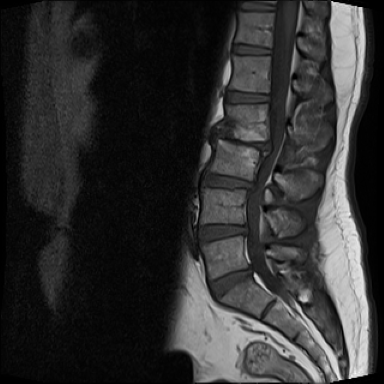Degenerative Disc Disease (DDD): (206, 124, 278, 158)
Lumbar Disc Bulge (LDB): (205, 261, 259, 306), (196, 169, 262, 197), (194, 220, 254, 248)
Normal IVD: (221, 88, 272, 107), (225, 41, 275, 59), (233, 2, 279, 15)
Spinal Stenosis (SS): (256, 137, 279, 160), (240, 176, 264, 198), (239, 260, 258, 286), (237, 222, 255, 239)
